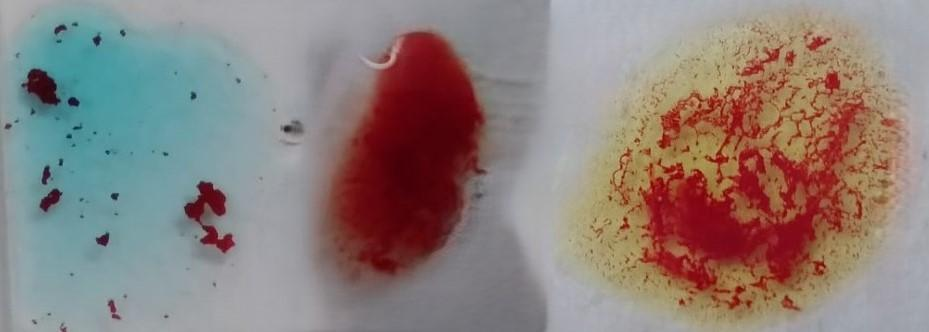A: (17, 17, 225, 326)
B: (590, 1, 912, 330)
D: (314, 35, 481, 276)
